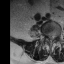CCS_normal: (50, 34, 52, 45)
LFS_stenosis: (54, 33, 57, 39)
LLS_normal: (52, 34, 54, 42)
RFS_severe_stenosis: (45, 32, 47, 40)
RLS_stenosis: (47, 33, 50, 41)
